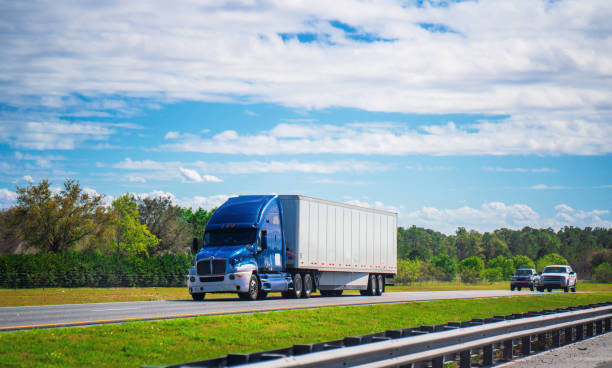Car: (539, 258, 586, 297), (508, 264, 540, 294)
Truck: (173, 179, 412, 300)
